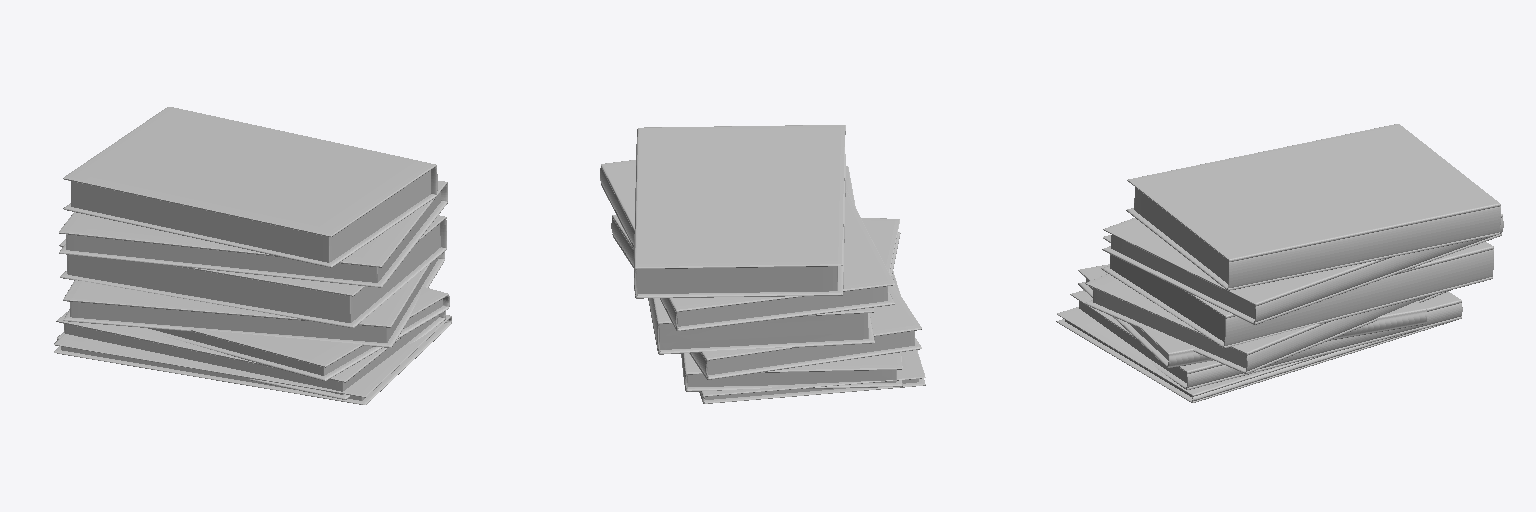
The model's file is BOOKS.obj.
3 views of the same model, side by side, from view 1: azimuth 30°, elevation 25°; view 2: azimuth 150°, elevation 25°; view 3: azimuth 270°, elevation 25° (orthographic).
Parts seen in each view (by area): view 1: Cube.017_Cube.044; view 2: Cube.017_Cube.044; view 3: Cube.017_Cube.044.
Part boxes in pixels (x1,y1,x2,y2): Cube.017_Cube.044: (54, 107, 451, 404); Cube.017_Cube.044: (600, 125, 925, 403); Cube.017_Cube.044: (1056, 124, 1503, 402).
Bounding box in the file's own units: 0.304 × 0.1222 × 0.3268.